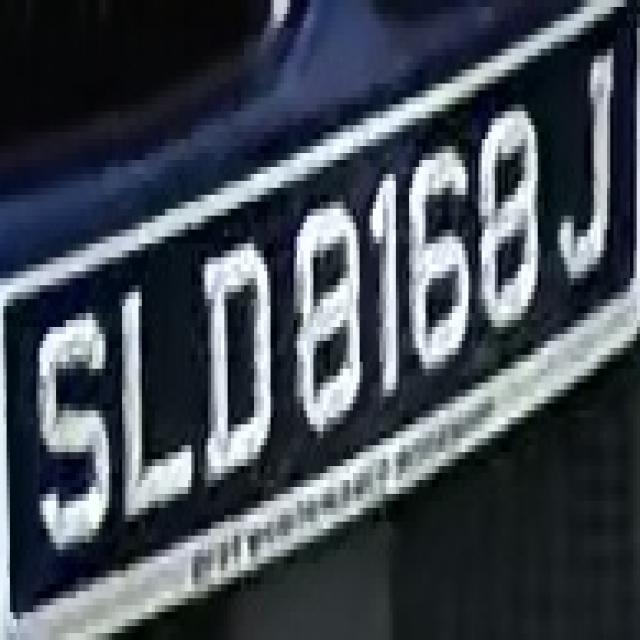1: (370, 139, 412, 418)
6: (403, 118, 475, 383)
8: (468, 97, 548, 376), (284, 188, 369, 445)
D: (204, 209, 274, 494)
J: (551, 42, 623, 313)
L: (115, 243, 198, 542)
S: (27, 292, 112, 584)
